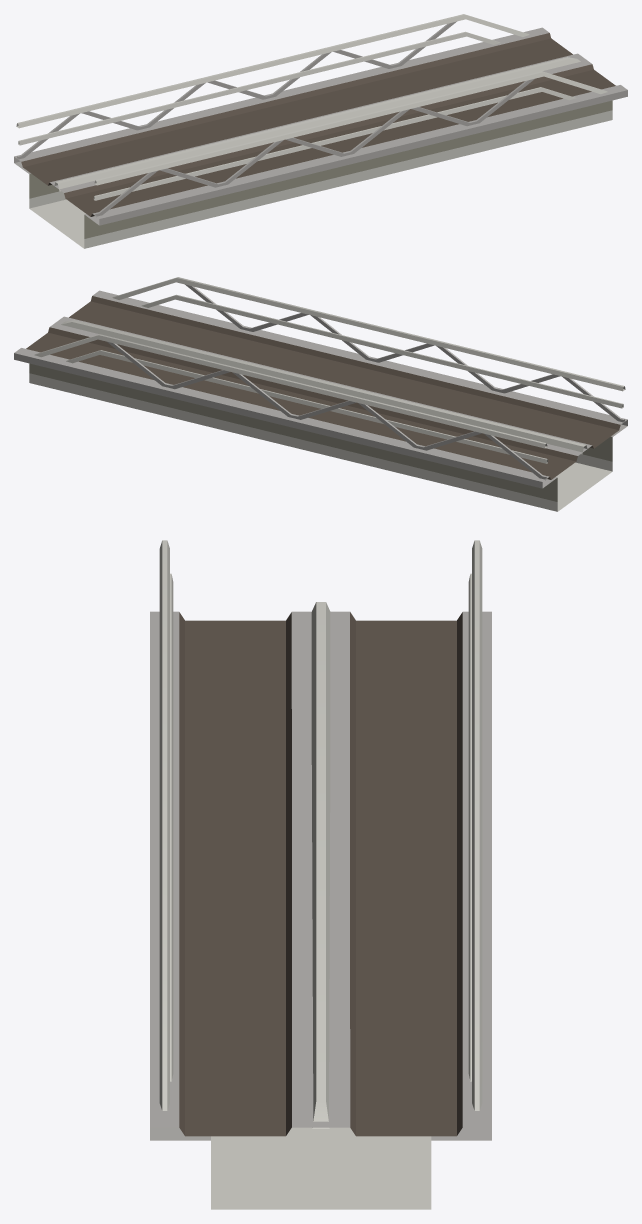
Rendered from railwaybridge_part1.fbx.
The picture shows the model from 3 angles, top to bottom: view 1: azimuth 30°, elevation 25°; view 2: azimuth 150°, elevation 25°; view 3: azimuth 270°, elevation 25°; orthographic projection. The views are drawn at different scales.
Parts seen in each view (by area): view 1: railwaybridge_part1; view 2: railwaybridge_part1; view 3: railwaybridge_part1.
Boxes of the visible parts, box(x1,y1,x2,y2) form: railwaybridge_part1: box(14, 14, 627, 248); railwaybridge_part1: box(14, 277, 627, 511); railwaybridge_part1: box(150, 540, 491, 1209).
Size of the model in its own units: 3000 by 416 by 840.
